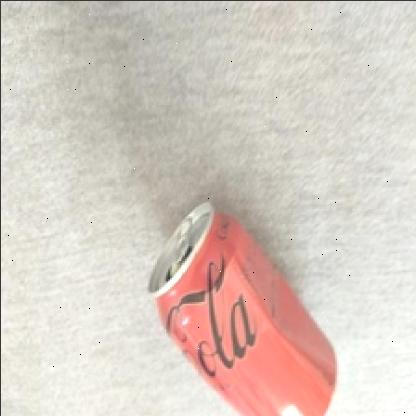Can: (149, 200, 335, 416)
